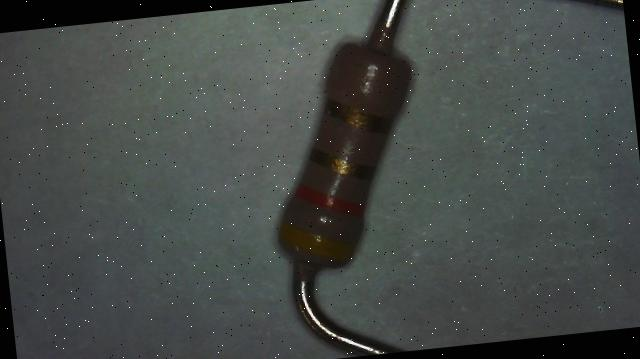gold: (324, 94, 392, 138), (310, 144, 374, 184)
orange: (294, 179, 365, 223)
resistor: (248, 17, 431, 292)
yellow: (278, 216, 356, 268)
